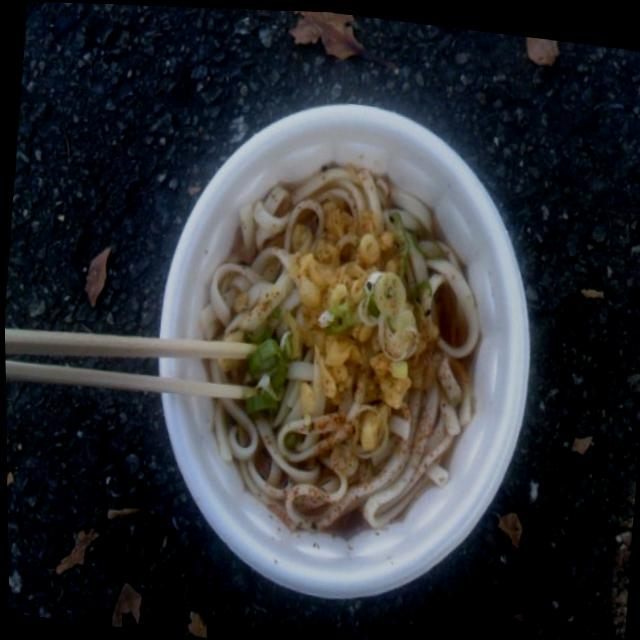面条主食: (119, 87, 550, 639)
